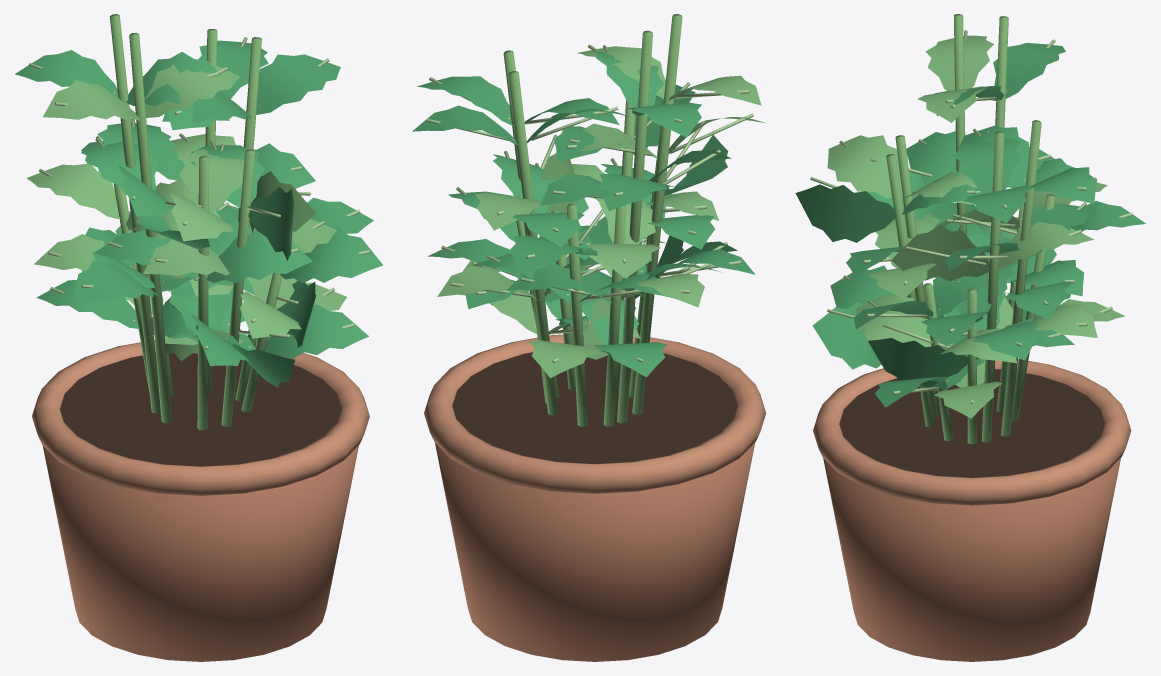
File: mint.glb
3 renders of one model, left to right at view 1: azimuth 30°, elevation 25°; view 2: azimuth 150°, elevation 25°; view 3: azimuth 270°, elevation 25°, orthographic. The views are drawn at different scales.
Visible parts, largest first — view 1: pot_static, soil_static, pot_rim_static, stem_g340_mint_4, leaf_g690_mint_8_2_-1, stem_g690_mint_9, leaf_g480_mint_5_2_-1, leaf_g585_mint_7_1_1, leaf_g410_mint_5_0_1, leaf_g200_mint_1_2_-1, leaf_g410_mint_4_2_1, leaf_g410_mint_4_2_-1 (+41 smaller); view 2: pot_static, soil_static, pot_rim_static, stem_g340_mint_4, stem_g690_mint_9, stem_g270_mint_3, stem_g480_mint_6, stem_g130_mint_1, leaf_g690_mint_8_2_-1, leaf_g340_mint_3_2_-1, leaf_g480_mint_6_0_1, leaf_g550_mint_6_2_-1 (+38 smaller); view 3: pot_static, soil_static, pot_rim_static, leaf_g270_mint_2_2_-1, leaf_g620_mint_7_2_-1, leaf_g095_mint_0_1_-1, leaf_g655_mint_8_1_-1, stem_g270_mint_3, leaf_g200_mint_2_0_1, stem_g620_mint_8, leaf_g410_mint_4_2_-1, leaf_g690_mint_8_2_1 (+40 smaller).
Part boxes in pixels (left/top/right/bottom): pot_static: left=42, top=445, right=358, bottom=661; soil_static: left=60, top=352, right=341, bottom=466; pot_rim_static: left=32, top=340, right=369, bottom=495; stem_g340_mint_4: left=129, top=33, right=171, bottom=423; leaf_g690_mint_8_2_-1: left=256, top=54, right=340, bottom=114; stem_g690_mint_9: left=109, top=14, right=160, bottom=413; leaf_g480_mint_5_2_-1: left=280, top=226, right=382, bottom=283; leaf_g585_mint_7_1_1: left=206, top=231, right=312, bottom=283; leaf_g410_mint_5_0_1: left=265, top=304, right=368, bottom=358; leaf_g200_mint_1_2_-1: left=26, top=163, right=120, bottom=219; leaf_g410_mint_4_2_1: left=144, top=62, right=240, bottom=117; leaf_g410_mint_4_2_-1: left=43, top=80, right=140, bottom=120; pot_static: left=435, top=442, right=755, bottom=661; soil_static: left=452, top=352, right=737, bottom=463; pot_rim_static: left=424, top=334, right=766, bottom=493; stem_g340_mint_4: left=632, top=14, right=682, bottom=414; stem_g690_mint_9: left=617, top=30, right=652, bottom=423; stem_g270_mint_3: left=508, top=71, right=558, bottom=415; stem_g480_mint_6: left=566, top=203, right=587, bottom=426; stem_g130_mint_1: left=603, top=205, right=626, bottom=426; leaf_g690_mint_8_2_-1: left=417, top=76, right=512, bottom=125; leaf_g340_mint_3_2_-1: left=412, top=105, right=519, bottom=145; leaf_g480_mint_6_0_1: left=528, top=340, right=600, bottom=378; leaf_g550_mint_6_2_-1: left=510, top=235, right=586, bottom=273; pot_static: left=823, top=458, right=1120, bottom=661; soil_static: left=839, top=369, right=1104, bottom=477; pot_rim_static: left=813, top=359, right=1131, bottom=505; leaf_g270_mint_2_2_-1: left=795, top=184, right=895, bottom=242; leaf_g620_mint_7_2_-1: left=827, top=135, right=902, bottom=198; leaf_g095_mint_0_1_-1: left=868, top=338, right=968, bottom=387; leaf_g655_mint_8_1_-1: left=891, top=224, right=989, bottom=281; stem_g270_mint_3: left=1001, top=120, right=1041, bottom=436; leaf_g200_mint_2_0_1: left=812, top=302, right=881, bottom=369; stem_g620_mint_8: left=982, top=131, right=1004, bottom=442; leaf_g410_mint_4_2_-1: left=925, top=35, right=993, bottom=90; leaf_g690_mint_8_2_1: left=953, top=138, right=1020, bottom=193.
Bounding box in the file's own units: 0.4276 × 0.7606 × 0.4301.
